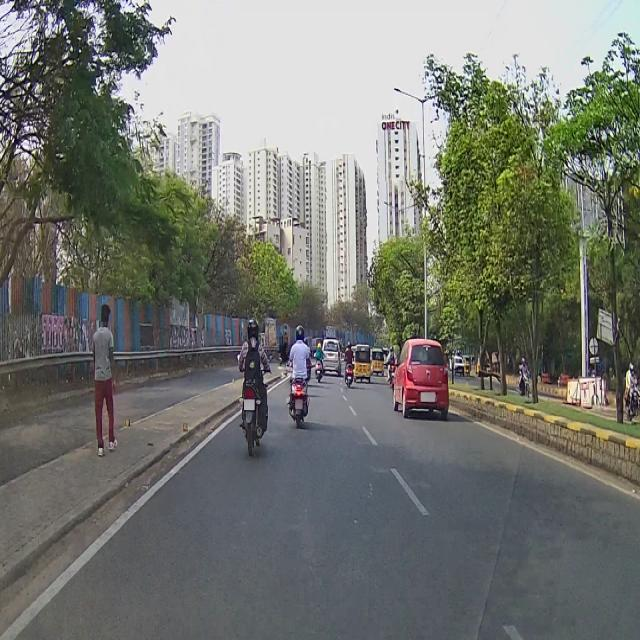car ahead at: (389, 331, 453, 427)
motorcycle ahead at: (235, 368, 272, 457), (284, 368, 317, 436)
person ahead at: (88, 298, 125, 467)
